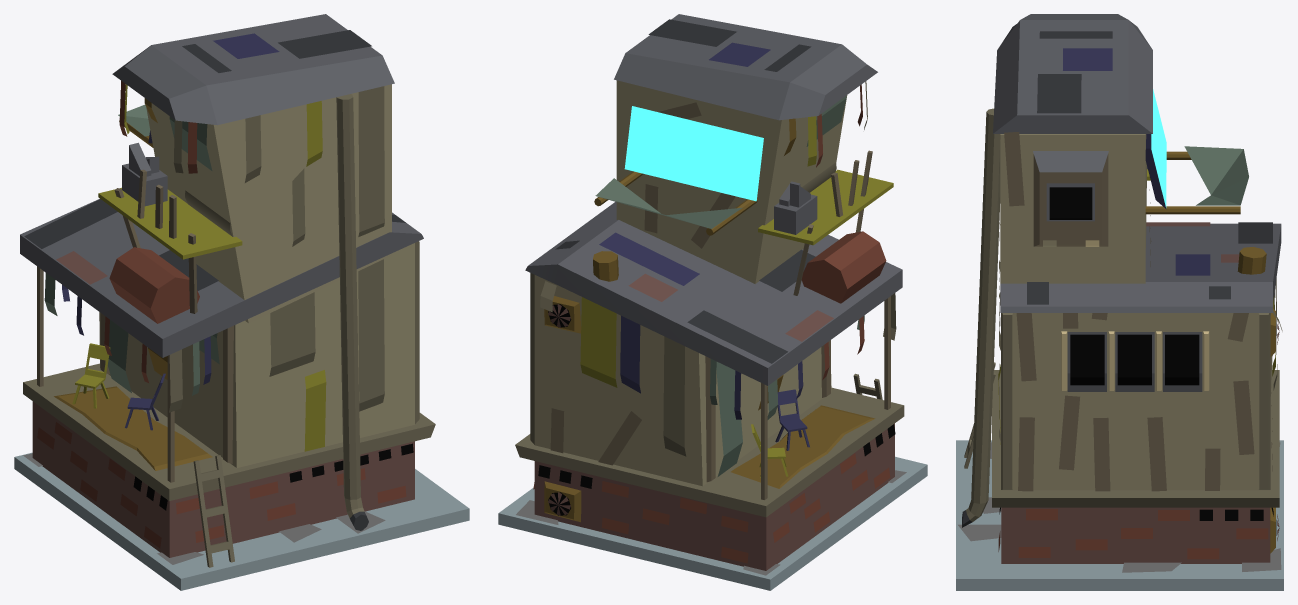
Rendered from Slums5.2.fbx.
3 renders of one model, left to right at view 1: azimuth 30°, elevation 25°; view 2: azimuth 150°, elevation 25°; view 3: azimuth 270°, elevation 25°, orthographic. The views are drawn at different scales.
Parts seen in each view (by area): view 1: Road.114, Road.111; view 2: Road.114, Road.111; view 3: Road.114, Road.111.
Part boxes in pixels (bbox=[...]): Road.114: bbox=[20, 14, 435, 567]; Road.111: bbox=[14, 452, 469, 590]; Road.114: bbox=[515, 14, 906, 575]; Road.111: bbox=[498, 456, 927, 590]; Road.114: bbox=[958, 14, 1282, 572]; Road.111: bbox=[956, 440, 1283, 590].
Size of the model in its own units: 200 by 310 by 200.
